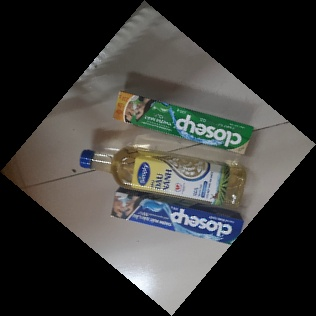CloseUp Tuyet: (111, 186, 245, 243)
CloseUp Xanh: (111, 90, 255, 156)
Simply: (78, 143, 249, 210)
